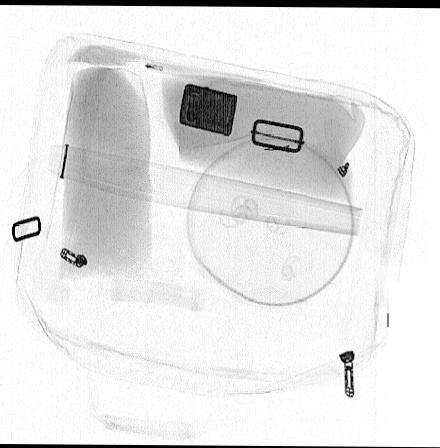Lighter: (179, 81, 238, 135)
